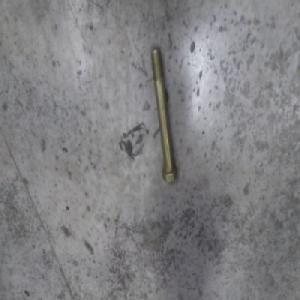Bolt: (143, 39, 175, 175)
